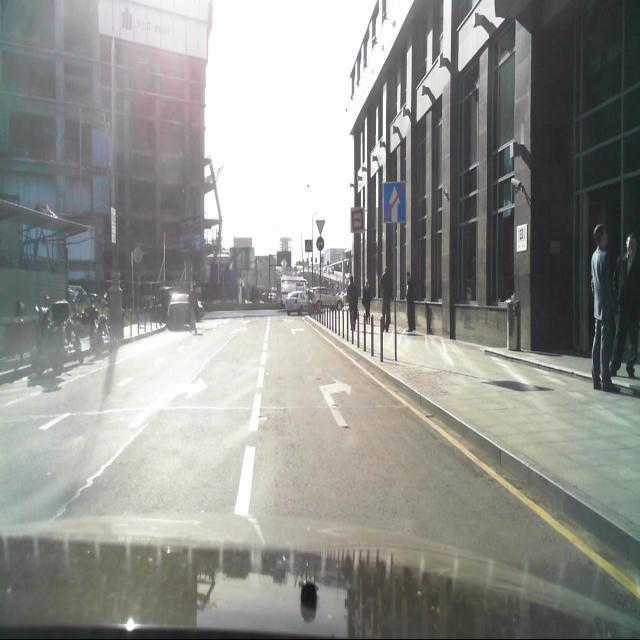road sign: (383, 182, 406, 222), (315, 219, 326, 235)
